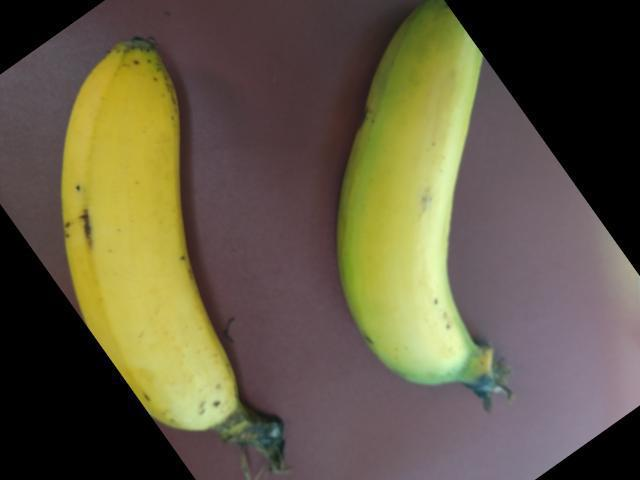freshripe: (50, 34, 327, 479), (320, 0, 544, 414)
